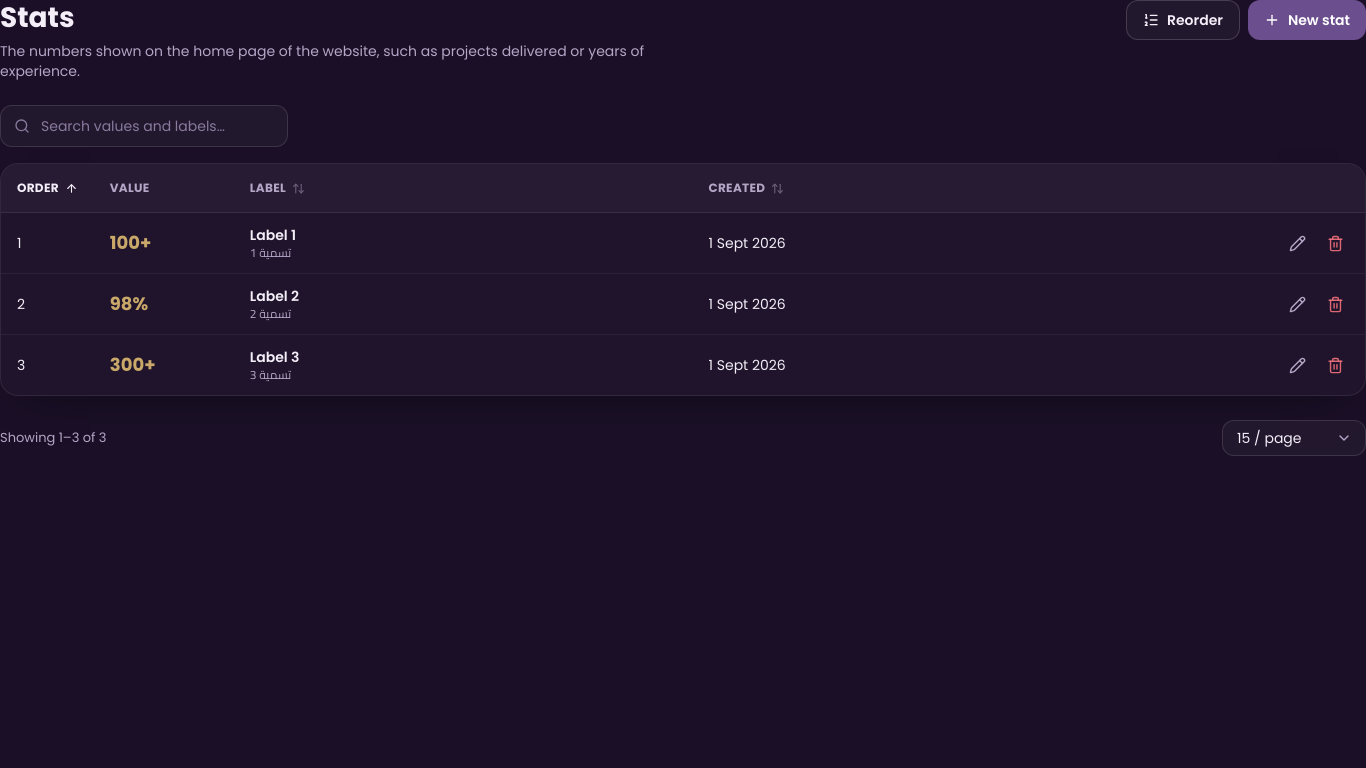
StatList › delete › does nothing when the dialog is cancelled
Expected: the text "Label 2" is shown, [250, 286, 299, 306]
Click the button named "Delete" in the row of "98%" at (1335, 304), box [1317, 286, 1353, 322]
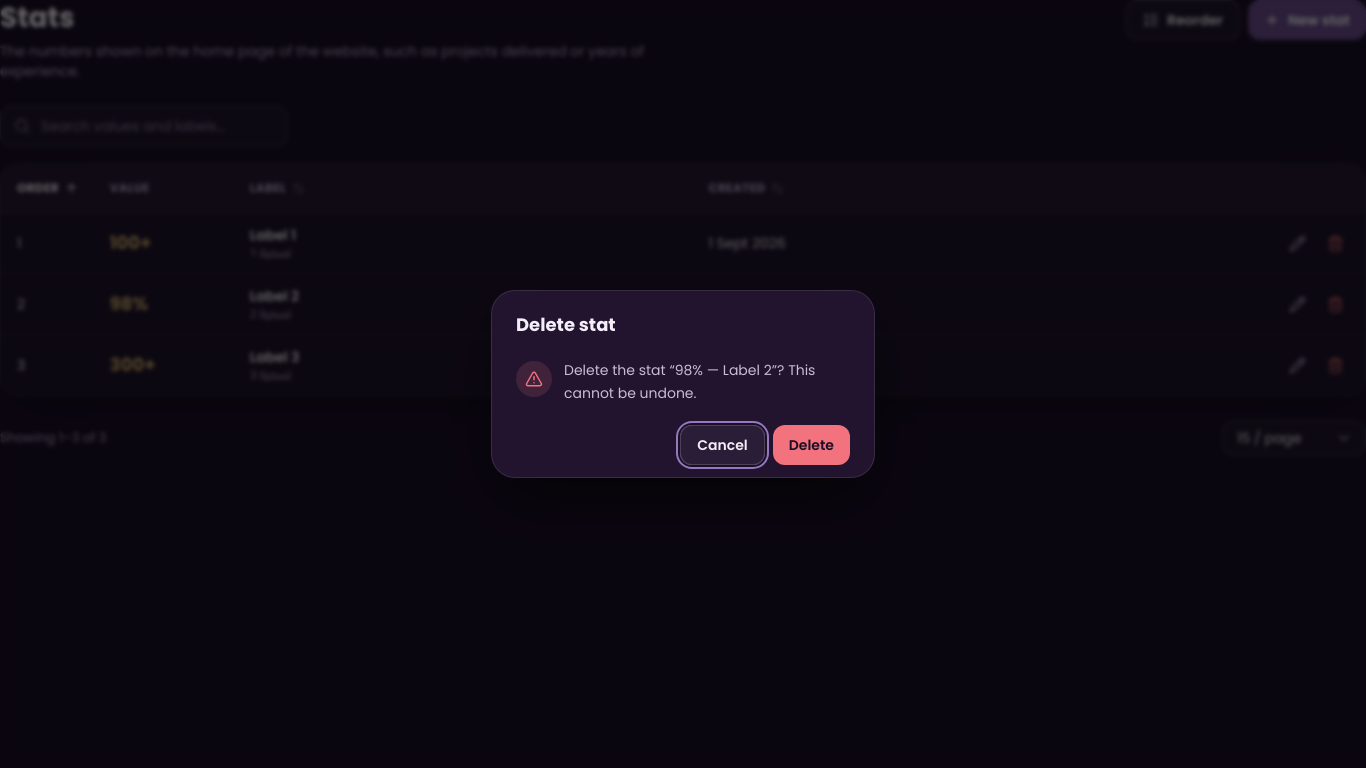
Click the button "Cancel" at (723, 445), box [680, 425, 765, 465]
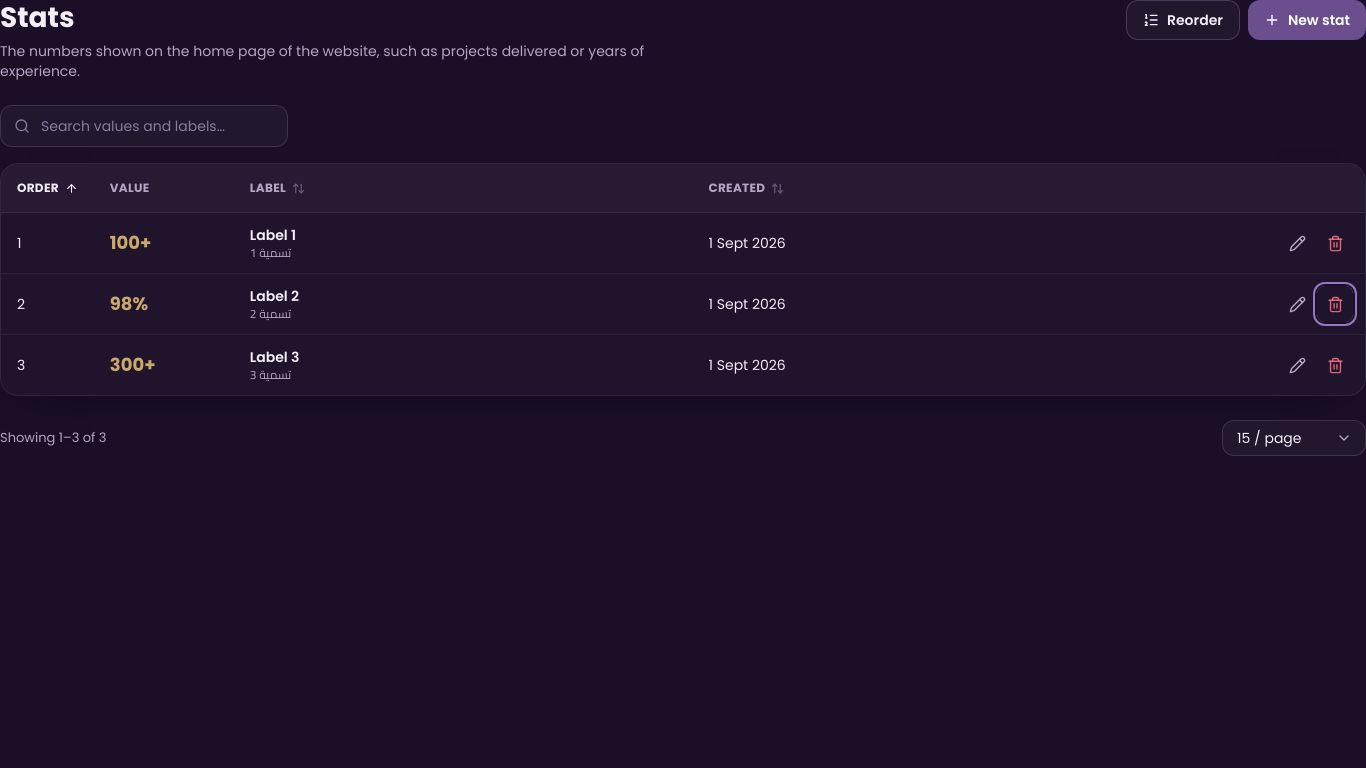
Result: the dialog is gone
